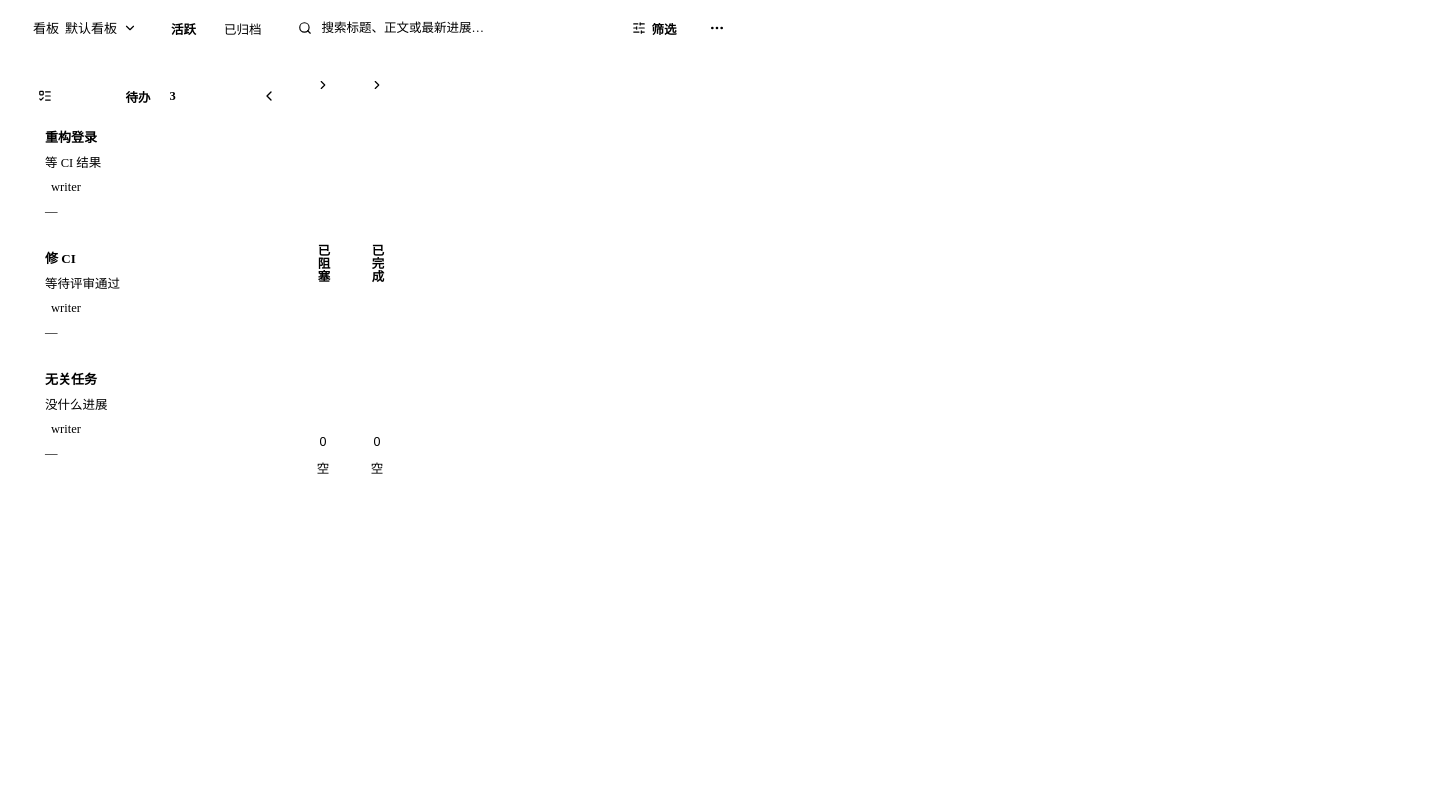
Test case: KanbanRoute 编排与看板管理 › 新建看板校验 slug 后提交并切换
Click the button named "更多操作": x=717, y=28 [701,12,733,44]
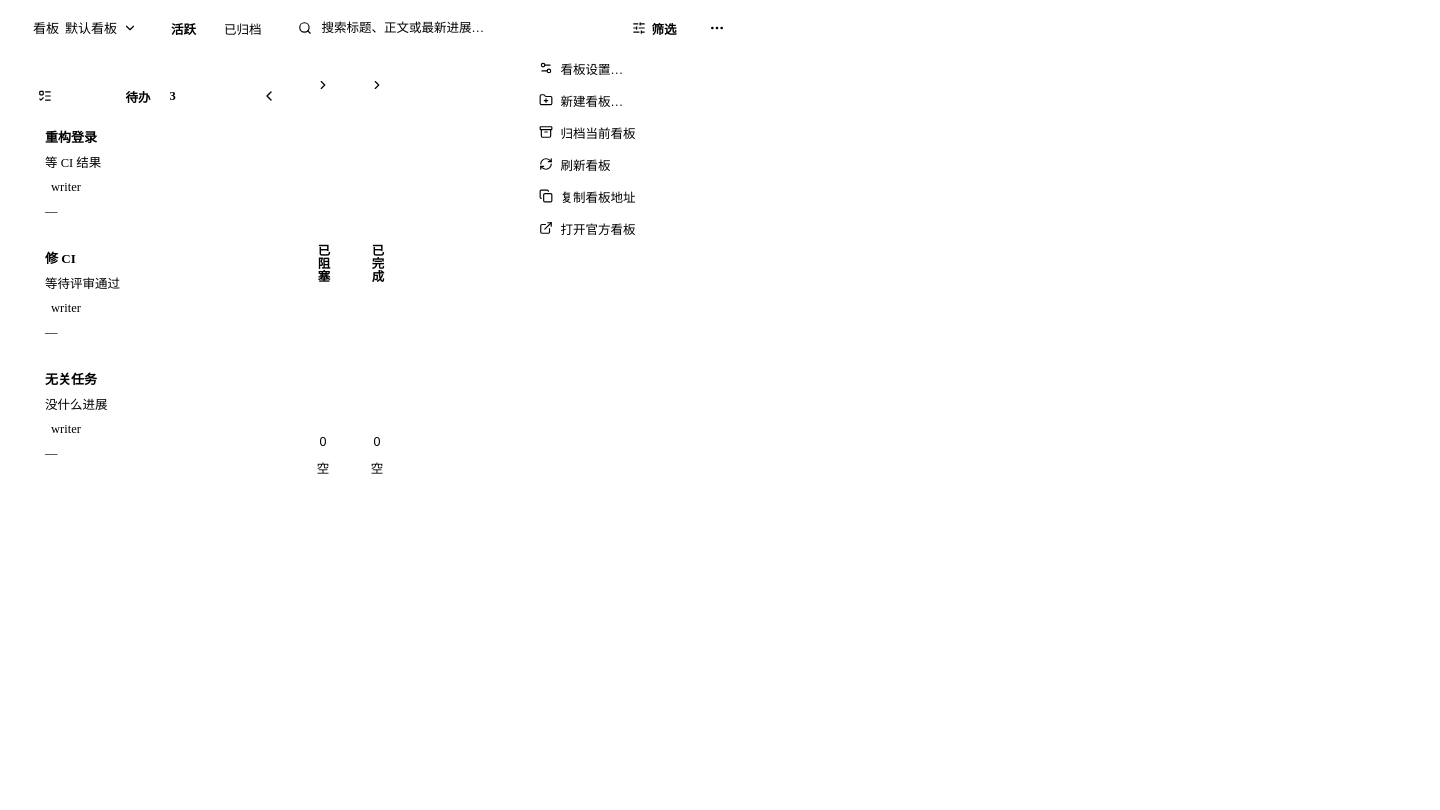
Click the menu item "新建看板…": x=629, y=100 [529,84,729,116]
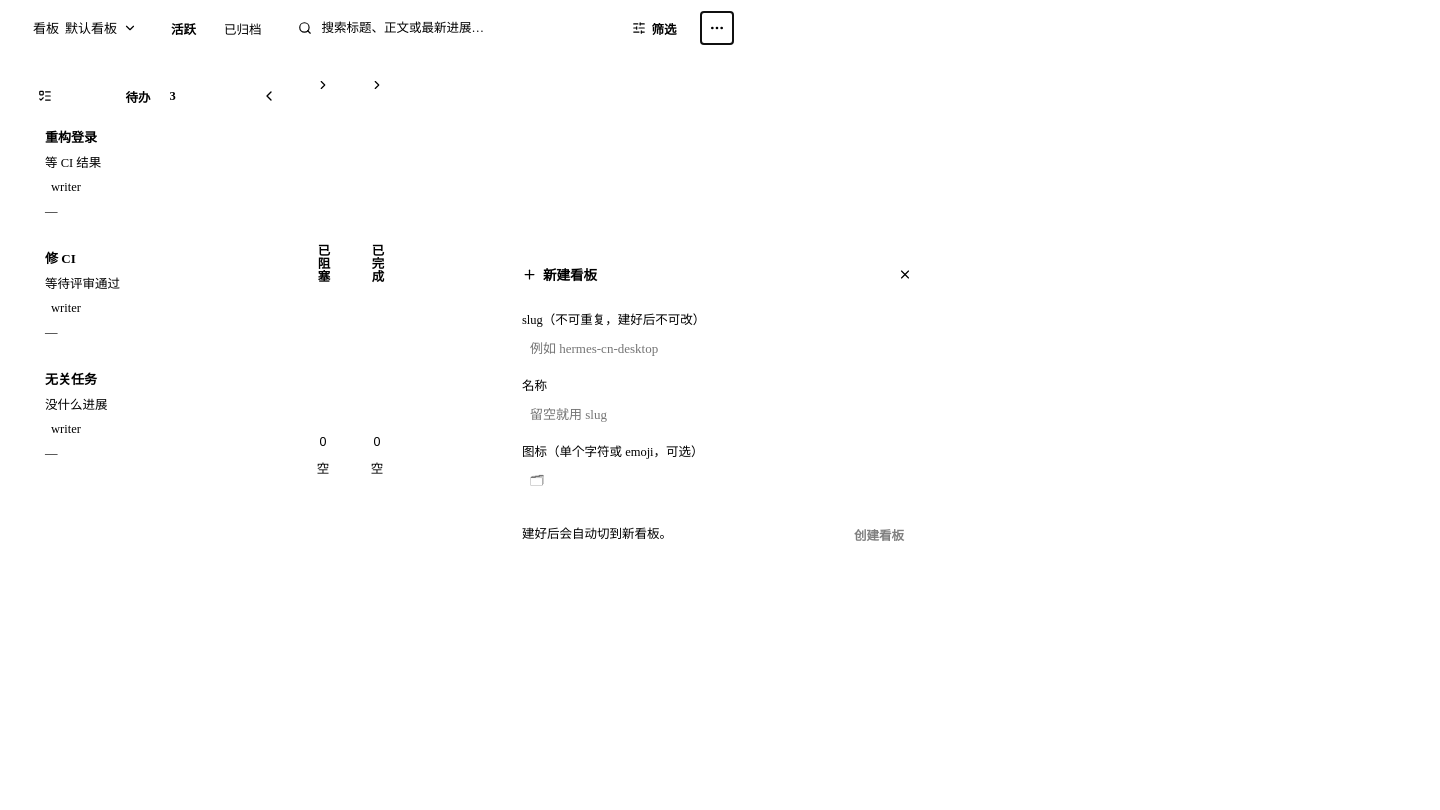
Check: the dialog labelled "新建看板" shows "slug", box [522,313,705,327]
In the field named "看板 slug": x=720, y=349 [522,333,918,365], type "Hermes CN"
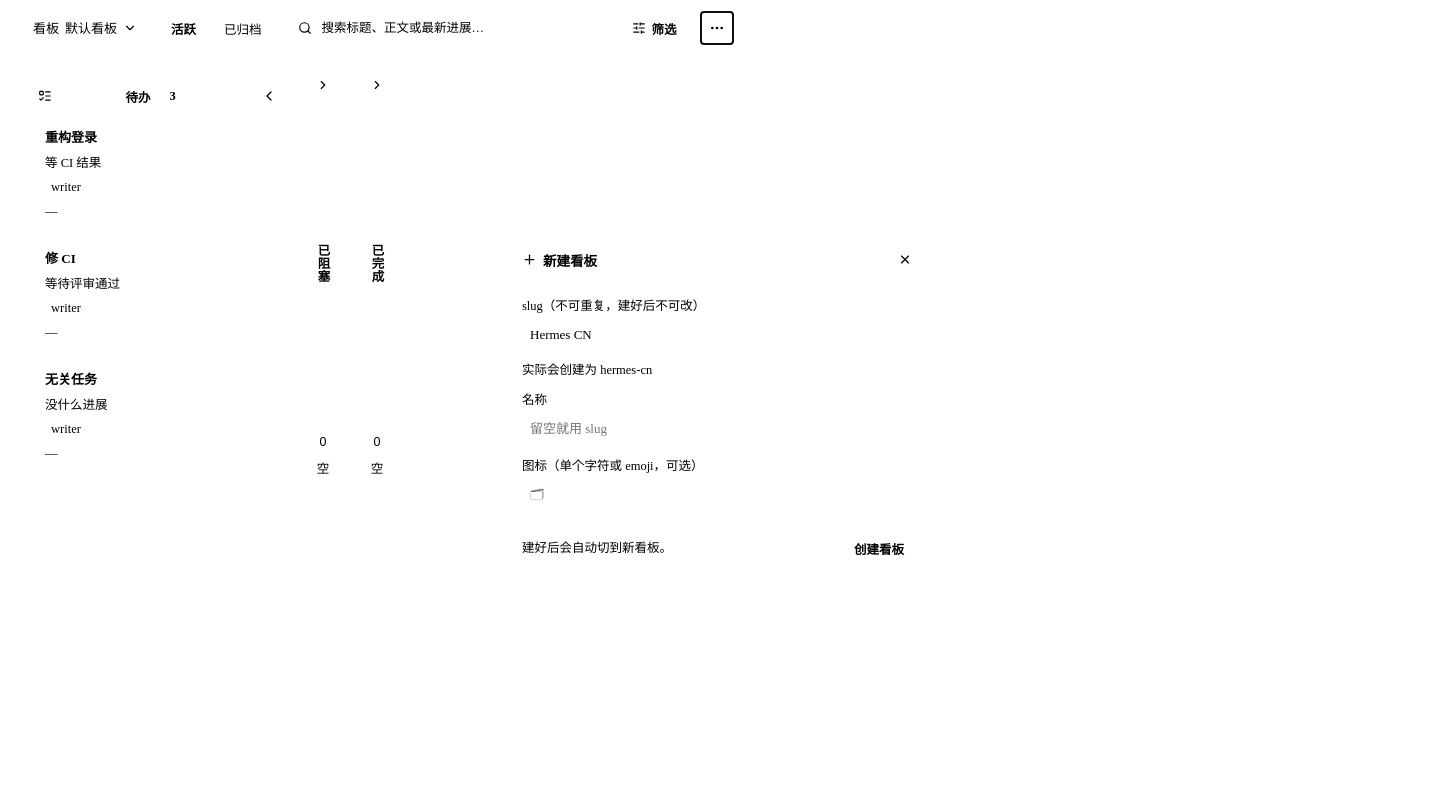
In the field named "看板名称": x=720, y=429 [522,413,918,445], type "桌面壳"
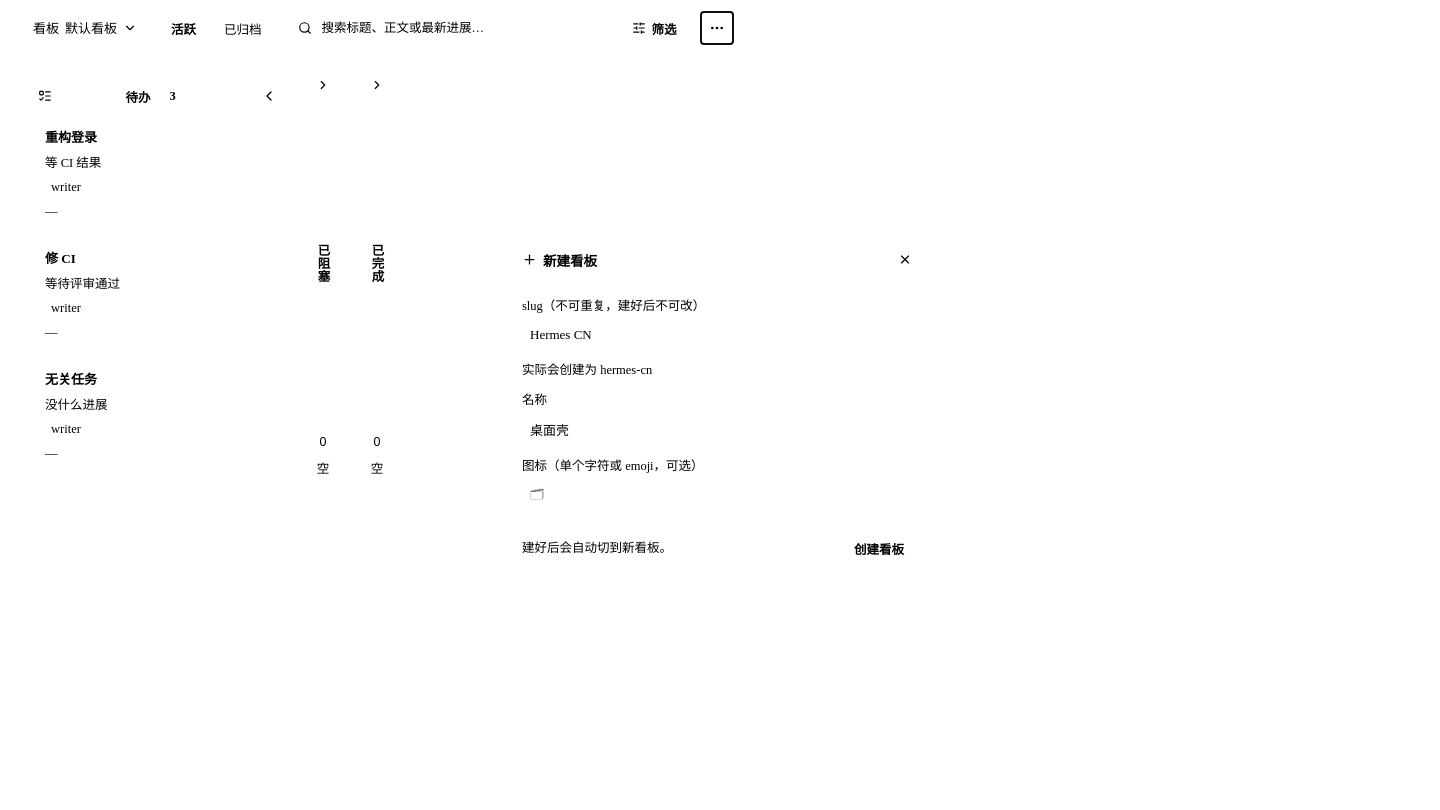
Click the button "创建看板": x=879, y=548 [840,533,918,563]
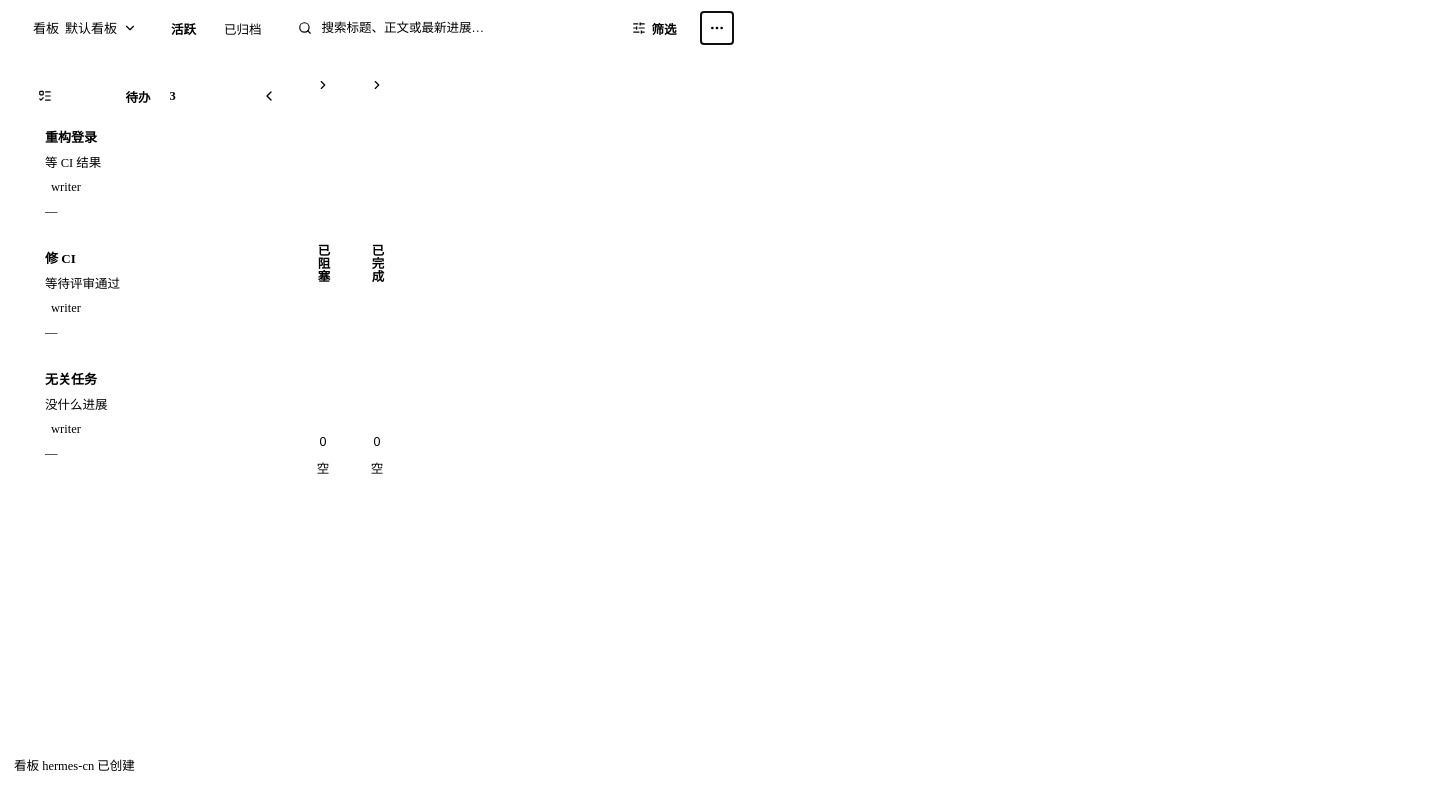
Check: the field labelled "新建看板" is gone
